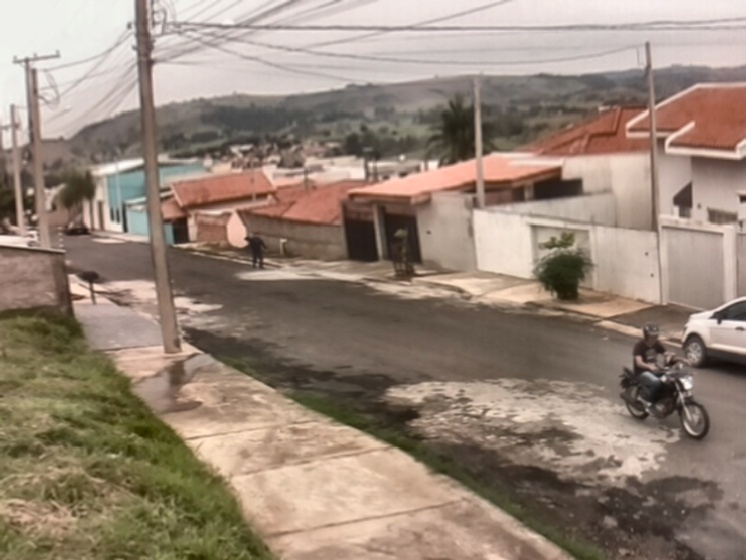person: (631, 323, 675, 418), (243, 233, 270, 270)
